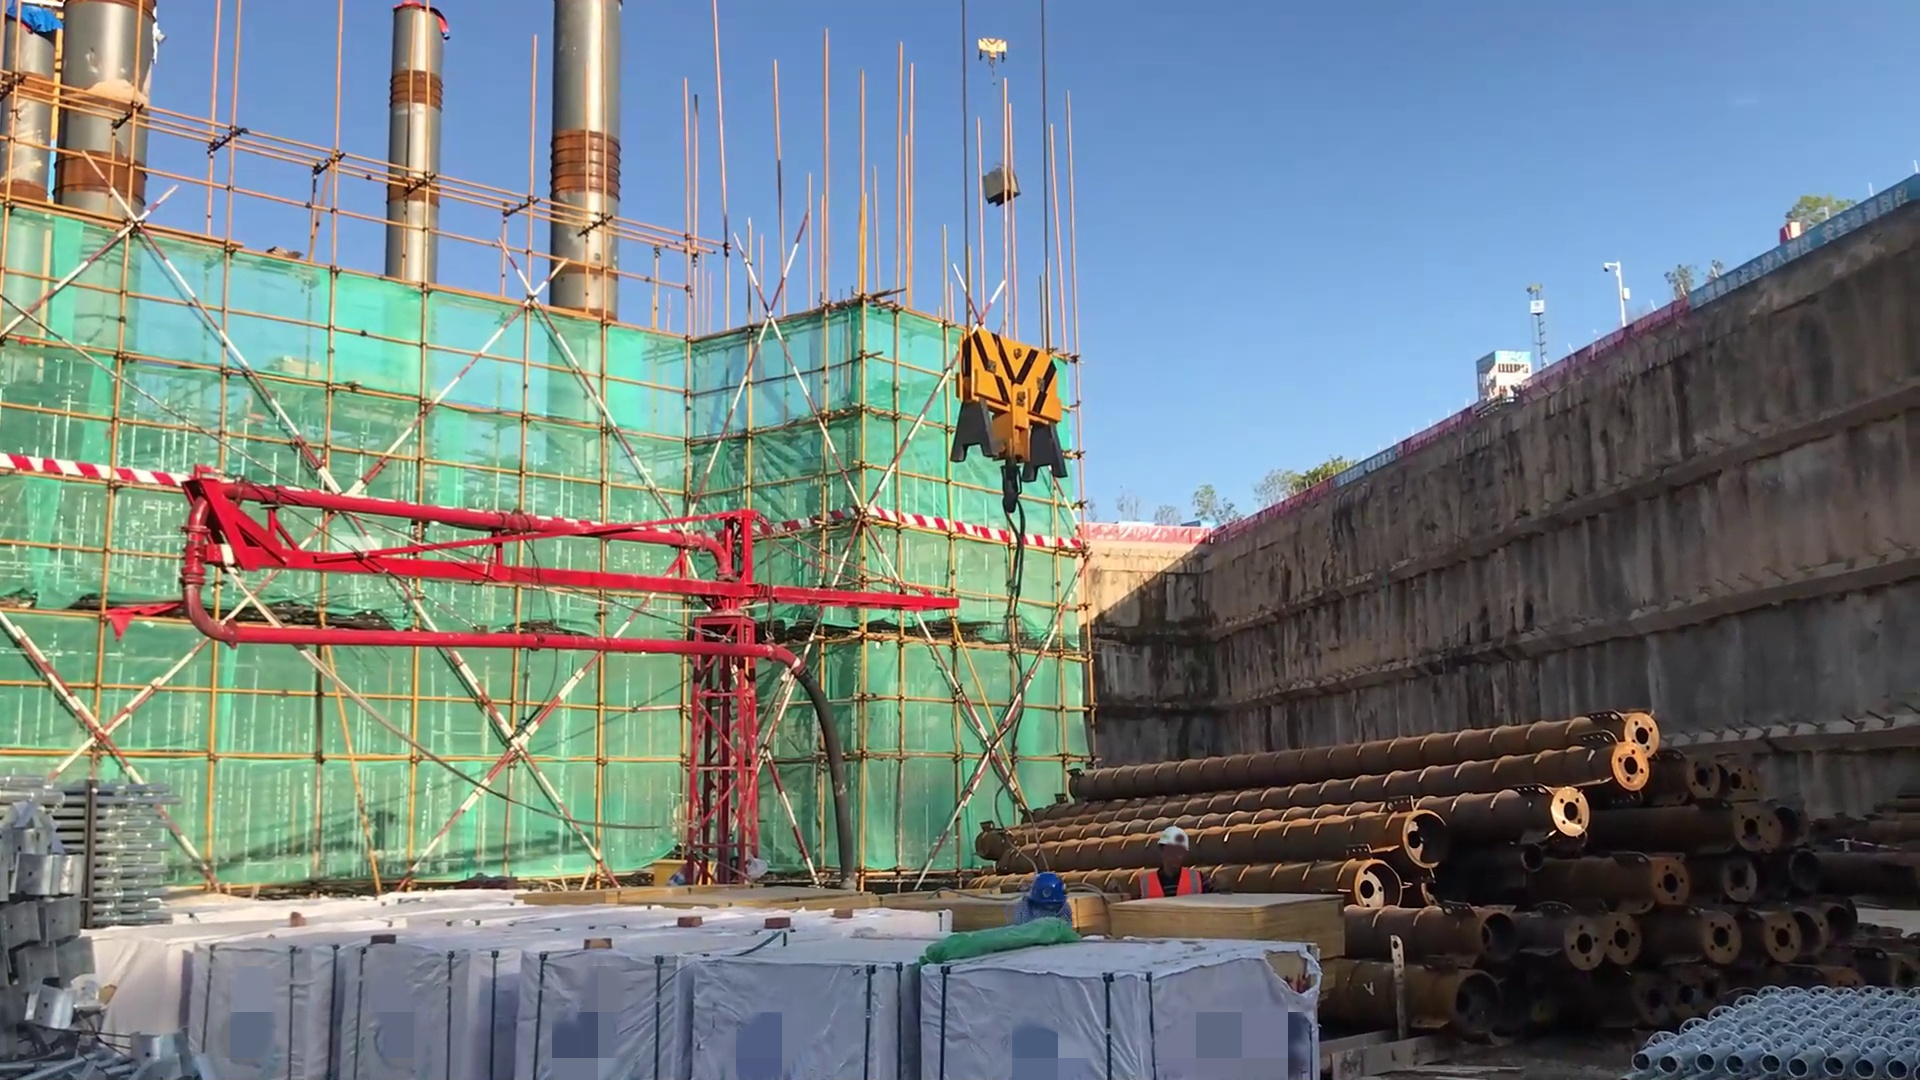board: (1090, 886, 1354, 977), (1066, 890, 1132, 930)
ebox: (650, 856, 722, 888)
helmet: (1020, 858, 1077, 930), (1144, 823, 1201, 859)
hook: (943, 321, 1087, 492), (970, 31, 1026, 76)
person: (1126, 819, 1208, 919)
scaffold: (33, 763, 200, 926)
slogan: (1675, 168, 1920, 327), (1330, 444, 1415, 495)
vest: (1128, 860, 1208, 915)
wood: (519, 885, 880, 923)
